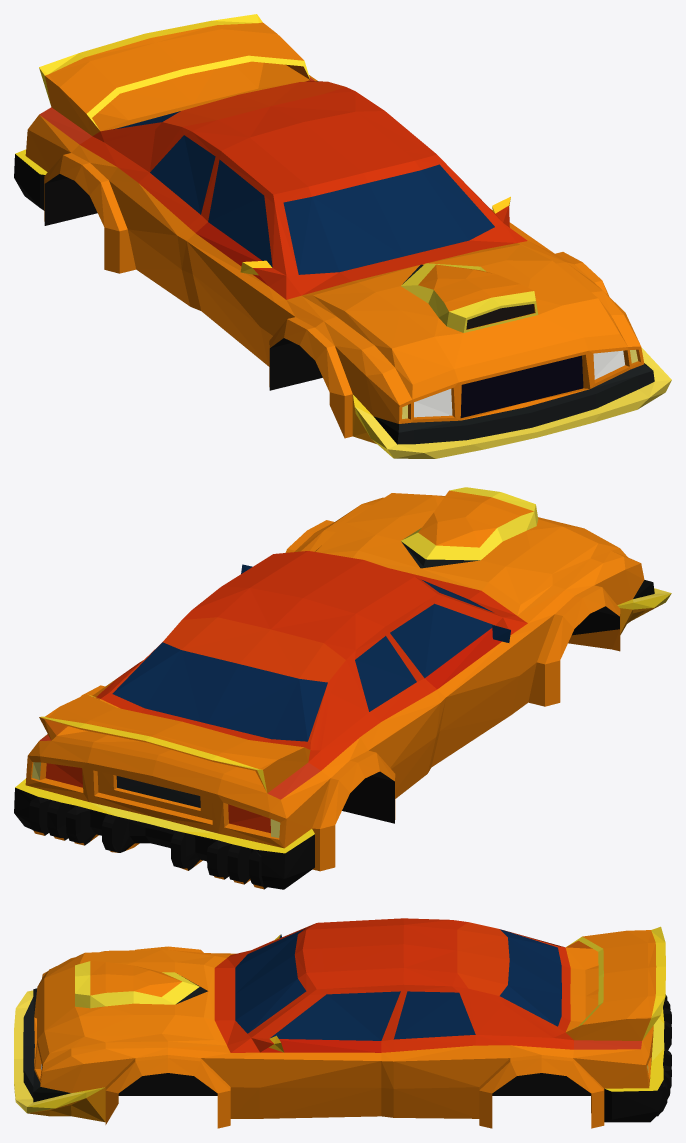
The model's file is FantaCar6600.export..CARblend.glb.
3 renders of one model, top to bottom at view 1: azimuth 30°, elevation 25°; view 2: azimuth 150°, elevation 25°; view 3: azimuth 270°, elevation 25°, orthographic. The views are drawn at different scales.
Visible parts, largest first — view 1: Car; view 2: Car; view 3: Car.
Part boxes in pixels (bbox=[...]): Car: bbox=[14, 14, 671, 458]; Car: bbox=[14, 487, 671, 889]; Car: bbox=[14, 918, 671, 1128].
Bounding box in the file's own units: 4.48 × 2.23 × 10.58.
Materials: 1 (1 with a texture image).
